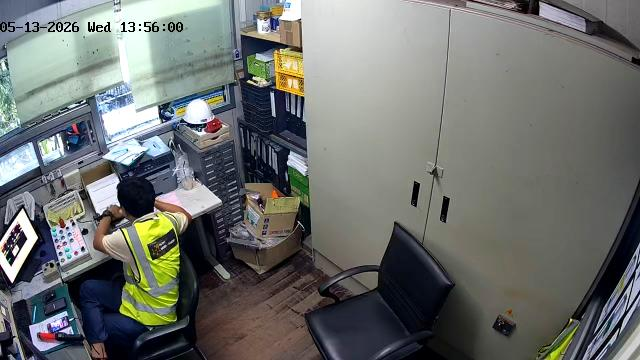Head: (117, 177, 155, 219)
People: (80, 178, 191, 358)
Phone: (44, 298, 67, 316), (47, 316, 70, 332)
